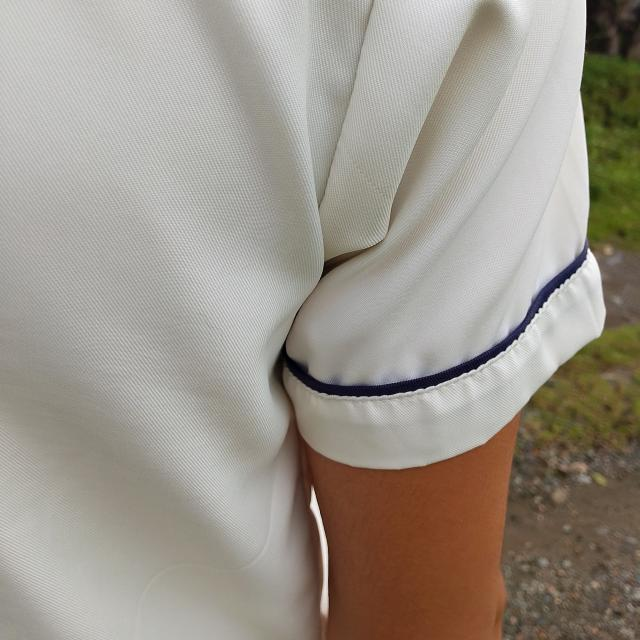education_male_uniform: (316, 0, 640, 517)
